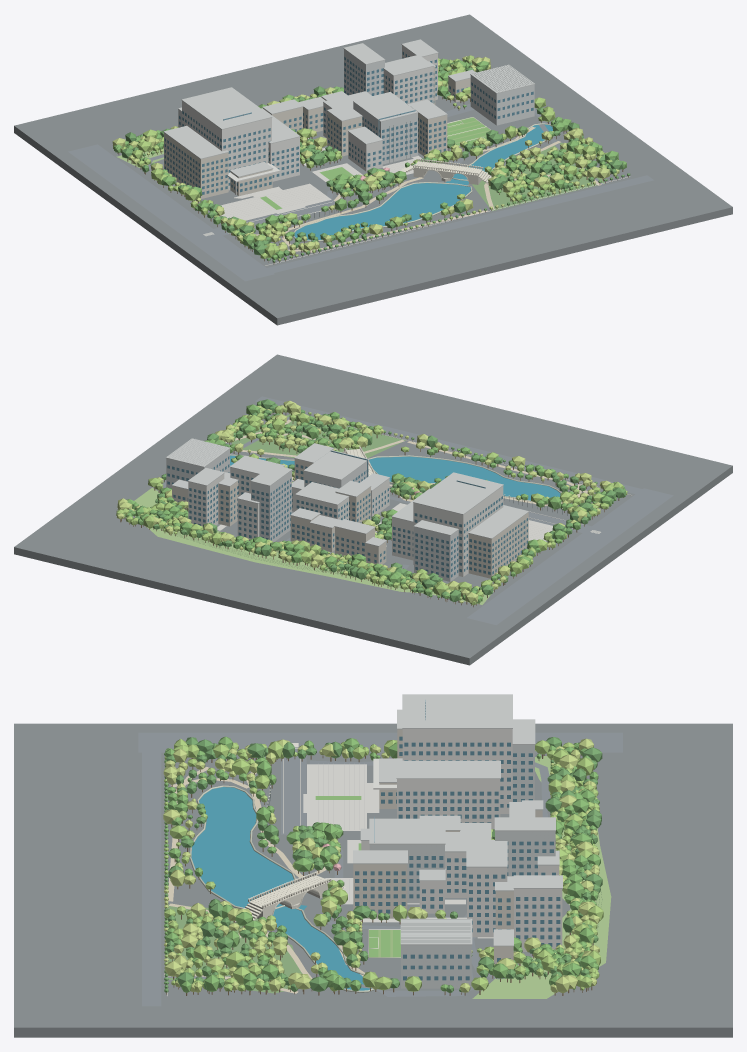
The model's file is campus.glb.
3 views of the same model, one above another, from view 1: azimuth 30°, elevation 25°; view 2: azimuth 150°, elevation 25°; view 3: azimuth 270°, elevation 25° (orthographic). The views are drawn at different scales.
Parts seen in each view (by area): view 1: 00 Square display plinth | solid stone body, West border boulevard, 07 Campus Lake south basin, South border boulevard, 01 Administration & Library main block | podium, 01 Library west wing | podium, 01 Administration & Library main block | roof coping, 06 Campus gymnasium | podium, 02 Academic complex south hub | podium, Waterfront woodland east, Main library stone plaza, 04 Dormitories south residential | podium (+18 smaller); view 2: 00 Square display plinth | solid stone body, West border boulevard, 07 Campus Lake south basin, 10 Northern natural green zone (flat), 01 Administration & Library main block | roof coping, 01 Administration & Library main block | podium, 01 Library west wing | podium, 04 Dormitories long west wing | podium, 01 Library west rear tower | podium, South border boulevard, Waterfront woodland east, 04 Dormitories east annex | podium (+17 smaller); view 3: 00 Square display plinth | solid stone body, 07 Campus Lake south basin, South border boulevard, West border boulevard, 01 Administration & Library main block | roof coping, 01 Administration & Library main block | podium, 01 Library east wing | podium, 10 Northern natural green zone (flat), Main library stone plaza, 06 Campus gymnasium | podium, 04 Dormitories east annex | podium, 07 Campus Lake northeast basin (+31 smaller).
Part boxes in pixels (bbox=[...]): 00 Square display plinth | solid stone body: bbox=[14, 14, 732, 325]; West border boulevard: bbox=[68, 144, 274, 281]; 07 Campus Lake south basin: bbox=[294, 183, 470, 240]; South border boulevard: bbox=[239, 175, 653, 279]; 01 Administration & Library main block | podium: bbox=[182, 101, 271, 190]; 01 Library west wing | podium: bbox=[164, 133, 228, 198]; 01 Administration & Library main block | roof coping: bbox=[181, 87, 272, 129]; 06 Campus gymnasium | podium: bbox=[470, 75, 534, 125]; 02 Academic complex south hub | podium: bbox=[353, 102, 417, 164]; Waterfront woodland east: bbox=[472, 142, 604, 211]; Main library stone plaza: bbox=[221, 183, 331, 220]; 04 Dormitories south residential | podium: bbox=[383, 66, 433, 104]; 00 Square display plinth | solid stone body: bbox=[14, 354, 732, 665]; West border boulevard: bbox=[467, 488, 673, 625]; 07 Campus Lake south basin: bbox=[369, 456, 560, 500]; 10 Northern natural green zone (flat): bbox=[134, 487, 493, 604]; 01 Administration & Library main block | roof coping: bbox=[413, 472, 503, 514]; 01 Administration & Library main block | podium: bbox=[413, 486, 503, 576]; 01 Library west wing | podium: bbox=[468, 512, 528, 578]; 04 Dormitories long west wing | podium: bbox=[251, 470, 291, 542]; 01 Library west rear tower | podium: bbox=[414, 527, 458, 581]; South border boulevard: bbox=[255, 396, 670, 500]; Waterfront woodland east: bbox=[231, 414, 405, 458]; 04 Dormitories east annex | podium: bbox=[188, 474, 224, 526]; 00 Square display plinth | solid stone body: bbox=[14, 723, 732, 1037]; 07 Campus Lake south basin: bbox=[191, 787, 293, 907]; South border boulevard: bbox=[142, 733, 161, 1006]; West border boulevard: bbox=[138, 732, 622, 752]; 01 Administration & Library main block | roof coping: bbox=[402, 694, 512, 728]; 01 Administration & Library main block | podium: bbox=[402, 729, 512, 813]; 01 Library east wing | podium: bbox=[397, 779, 500, 829]; 10 Northern natural green zone (flat): bbox=[472, 756, 611, 998]; Main library stone plaza: bbox=[307, 764, 366, 830]; 06 Campus gymnasium | podium: bbox=[401, 945, 471, 988]; 04 Dormitories east annex | podium: bbox=[514, 889, 562, 951]; 07 Campus Lake northeast basin: bbox=[272, 906, 371, 990].
Size of the model in its own units: 298 by 45.08 by 298.
